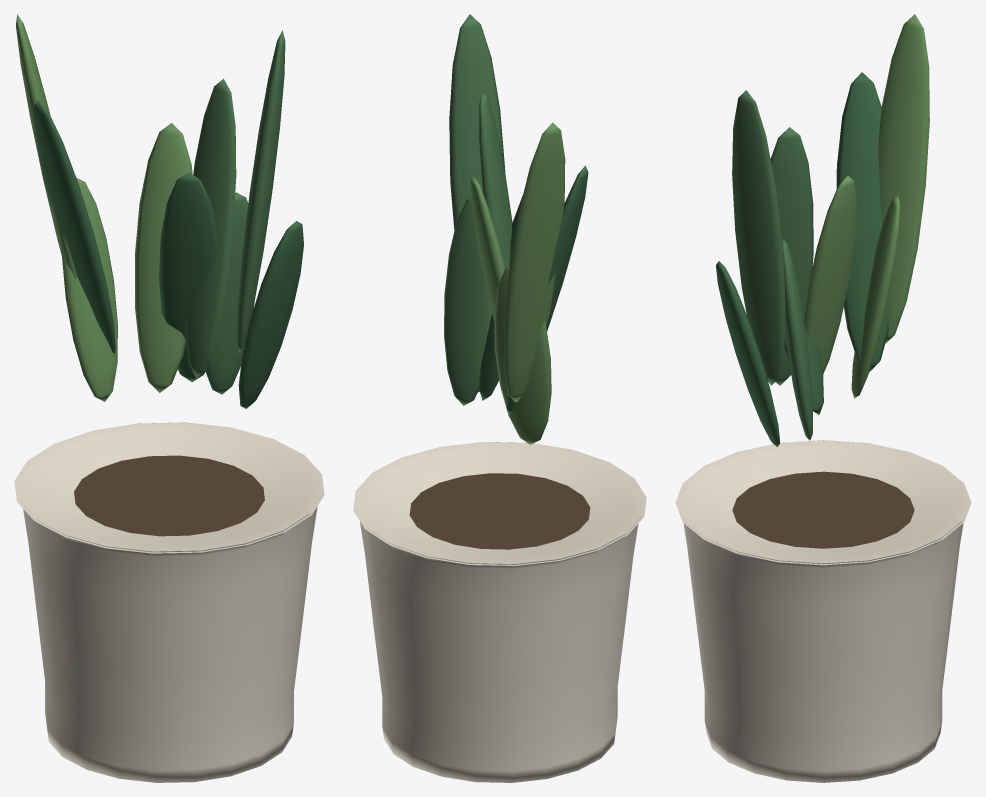
The model's file is plant-snake.glb.
3 renders of one model, left to right at view 1: azimuth 30°, elevation 25°; view 2: azimuth 150°, elevation 25°; view 3: azimuth 270°, elevation 25°, orthographic. The views are drawn at different scales.
Parts seen in each view (by area): view 1: plant-snake_m_e8e0d0, plant-snake_m_3f6b48, plant-snake_m_4f7a52, plant-snake_m_6a945c, plant-snake_m_5a4636; view 2: plant-snake_m_e8e0d0, plant-snake_m_4f7a52, plant-snake_m_6a945c, plant-snake_m_5a4636, plant-snake_m_3f6b48; view 3: plant-snake_m_e8e0d0, plant-snake_m_6a945c, plant-snake_m_4f7a52, plant-snake_m_3f6b48, plant-snake_m_5a4636.
Boxes of the visible parts, left/top/right/bottom form: plant-snake_m_e8e0d0: left=14, top=422, right=324, bottom=782; plant-snake_m_3f6b48: left=33, top=100, right=303, bottom=408; plant-snake_m_4f7a52: left=184, top=30, right=285, bottom=394; plant-snake_m_6a945c: left=16, top=14, right=192, bottom=401; plant-snake_m_5a4636: left=74, top=455, right=264, bottom=536; plant-snake_m_e8e0d0: left=353, top=442, right=646, bottom=782; plant-snake_m_4f7a52: left=444, top=14, right=512, bottom=405; plant-snake_m_6a945c: left=470, top=122, right=565, bottom=444; plant-snake_m_5a4636: left=409, top=473, right=590, bottom=549; plant-snake_m_3f6b48: left=478, top=165, right=588, bottom=414; plant-snake_m_e8e0d0: left=675, top=440, right=971, bottom=782; plant-snake_m_6a945c: left=804, top=14, right=929, bottom=398; plant-snake_m_4f7a52: left=732, top=90, right=813, bottom=440; plant-snake_m_3f6b48: left=716, top=72, right=888, bottom=446; plant-snake_m_5a4636: left=732, top=471, right=914, bottom=548.
Bounding box in the file's own units: 0.5046 × 1.29 × 0.5046.
